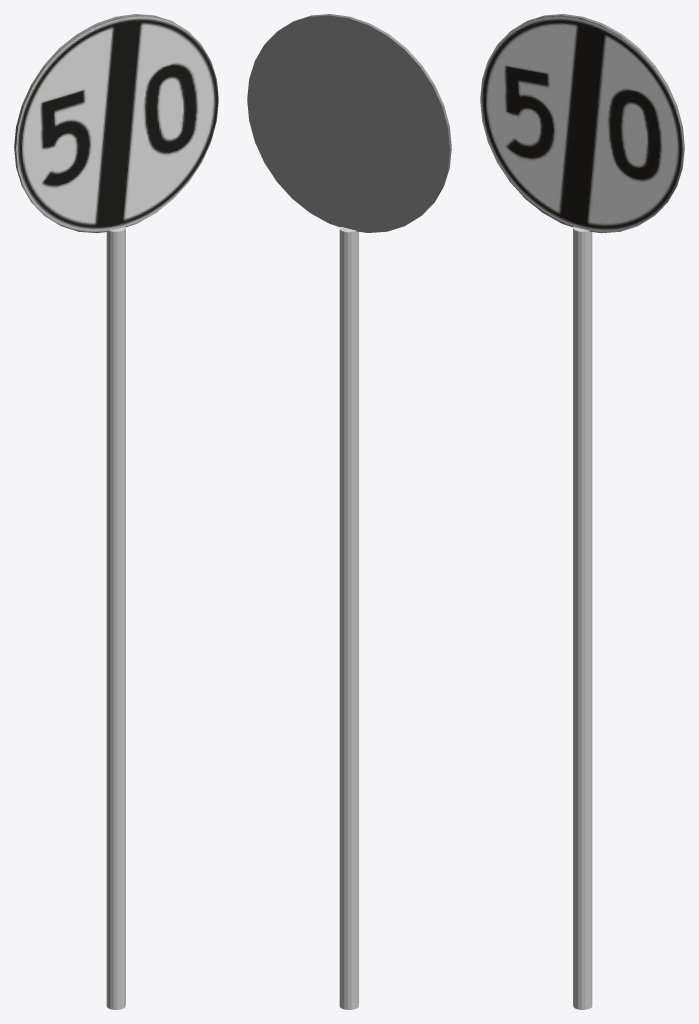
Rendered from 50_hiz_sinirlamasi_sonu.fbx.
3 renders of one model, left to right at view 1: azimuth 30°, elevation 25°; view 2: azimuth 150°, elevation 25°; view 3: azimuth 330°, elevation 25°, orthographic.
Parts seen in each view (by area): view 1: 50_hiz_sinirlamasi_sonu; view 2: 50_hiz_sinirlamasi_sonu; view 3: 50_hiz_sinirlamasi_sonu.
Part boxes in pixels (left/top/right/bottom): 50_hiz_sinirlamasi_sonu: left=14, top=14, right=218, bottom=1009; 50_hiz_sinirlamasi_sonu: left=247, top=14, right=451, bottom=1009; 50_hiz_sinirlamasi_sonu: left=480, top=14, right=684, bottom=1009.
Bounding box in the file's own units: 60 × 280 × 5.
3 materials, 1 textured.
